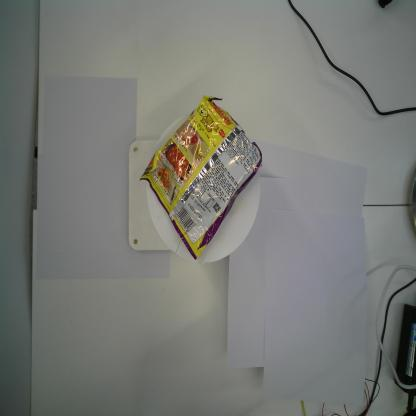Instant Noodles: (138, 94, 264, 262)
